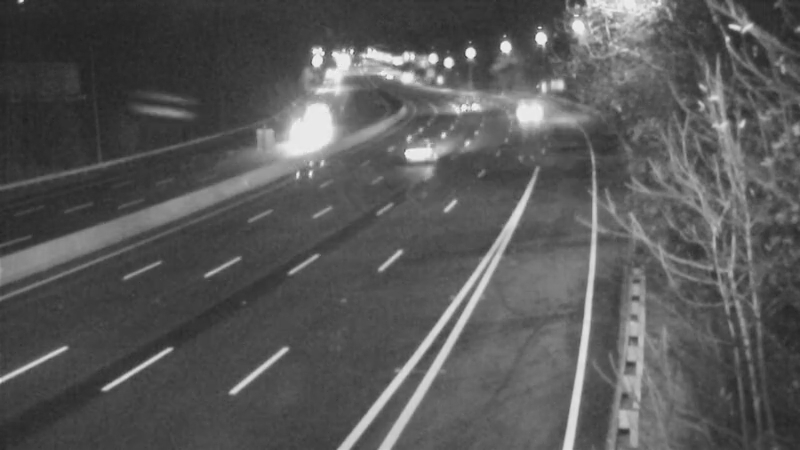vehicle: (367, 114, 447, 194), (378, 53, 428, 103), (498, 88, 548, 138), (438, 78, 488, 128), (276, 115, 326, 165)
